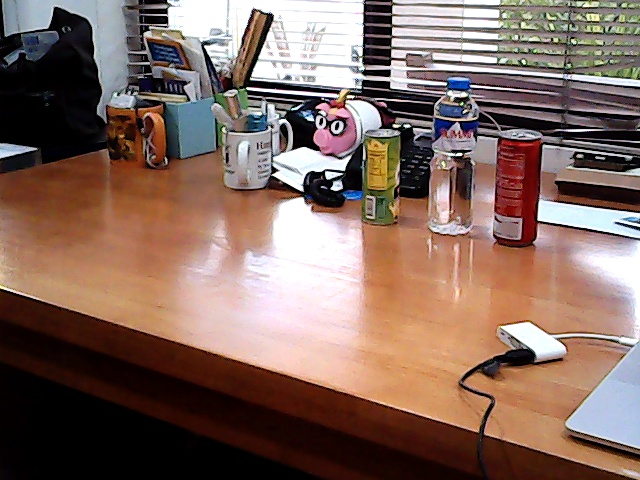Cola: (493, 122, 537, 254)
Pine Juice: (357, 126, 410, 228)
Summit Water: (421, 75, 487, 240)
